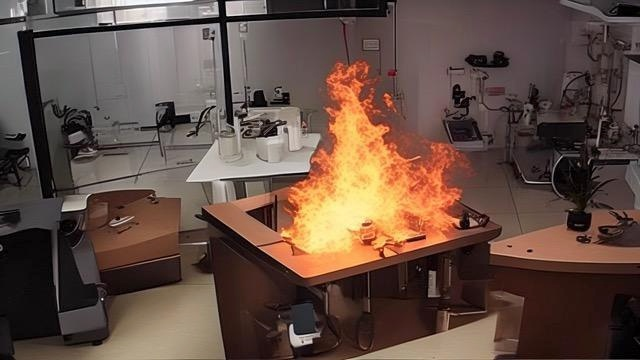fire: (273, 55, 467, 261)
